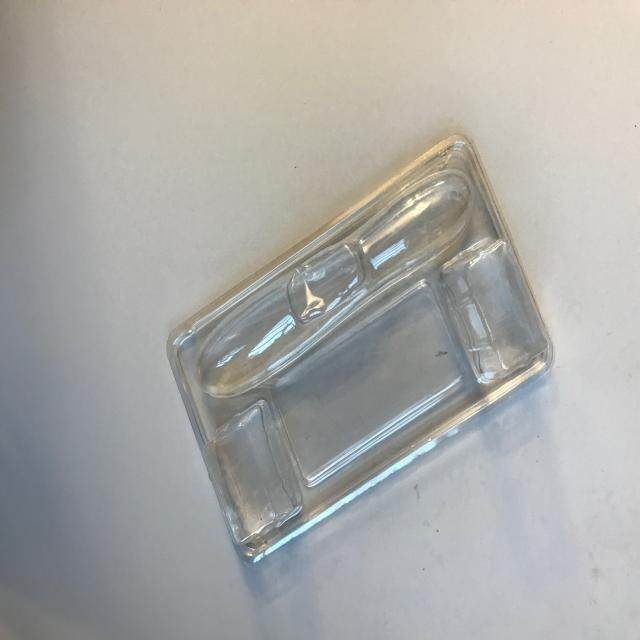plastic: (160, 130, 560, 580)
